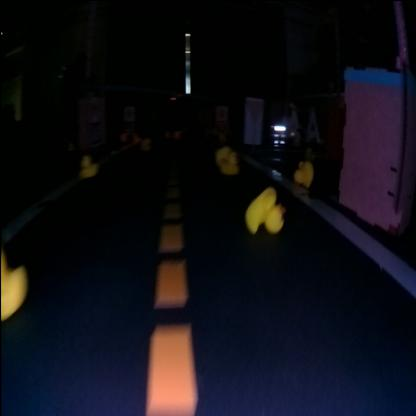Duckie: (245, 188, 284, 232), (2, 260, 28, 317), (293, 160, 314, 184), (220, 150, 240, 170), (82, 154, 98, 175)
